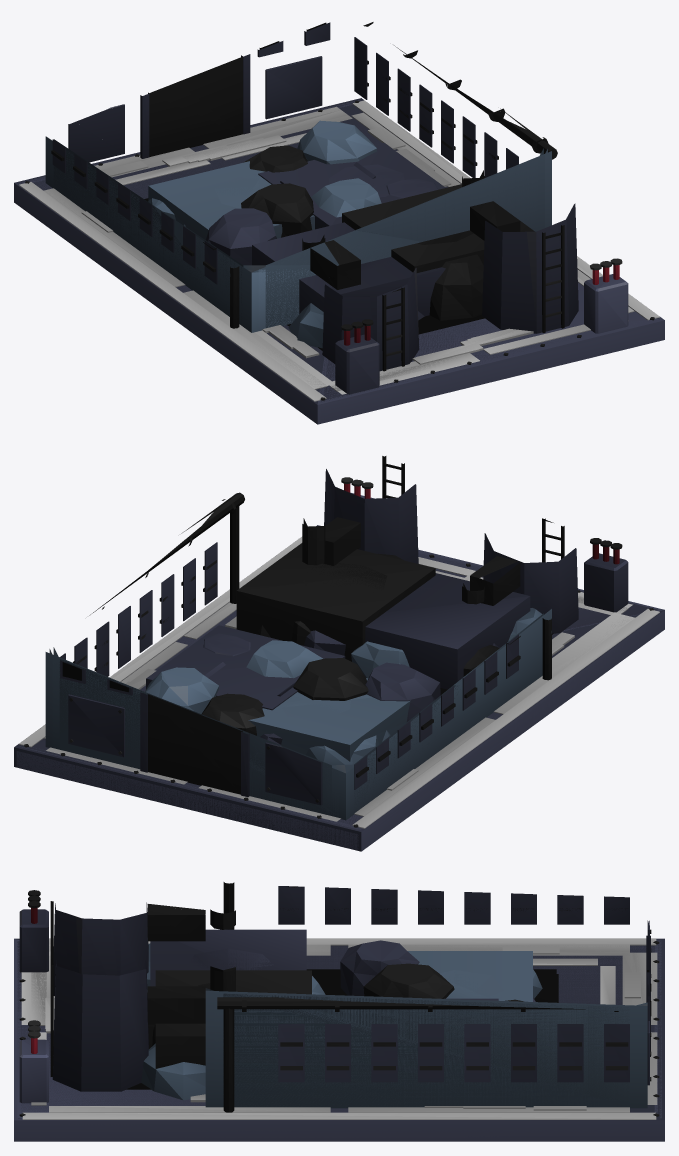
The model's file is veyran_power_plant_heavily_damaged.glb.
The picture shows the model from 3 angles, top to bottom: view 1: azimuth 30°, elevation 25°; view 2: azimuth 150°, elevation 25°; view 3: azimuth 270°, elevation 25°; orthographic projection. The views are drawn at different scales.
Parts seen in each view (by area): view 1: body (×3); view 2: body (×3); view 3: body (×3).
Part boxes in pixels (left/top/right/bottom): body (×3): left=14, top=22, right=664, bottom=424; body (×3): left=14, top=456, right=664, bottom=851; body (×3): left=14, top=882, right=664, bottom=1141.
Size of the model in its own units: 7.4 by 2.63 by 11.2.
